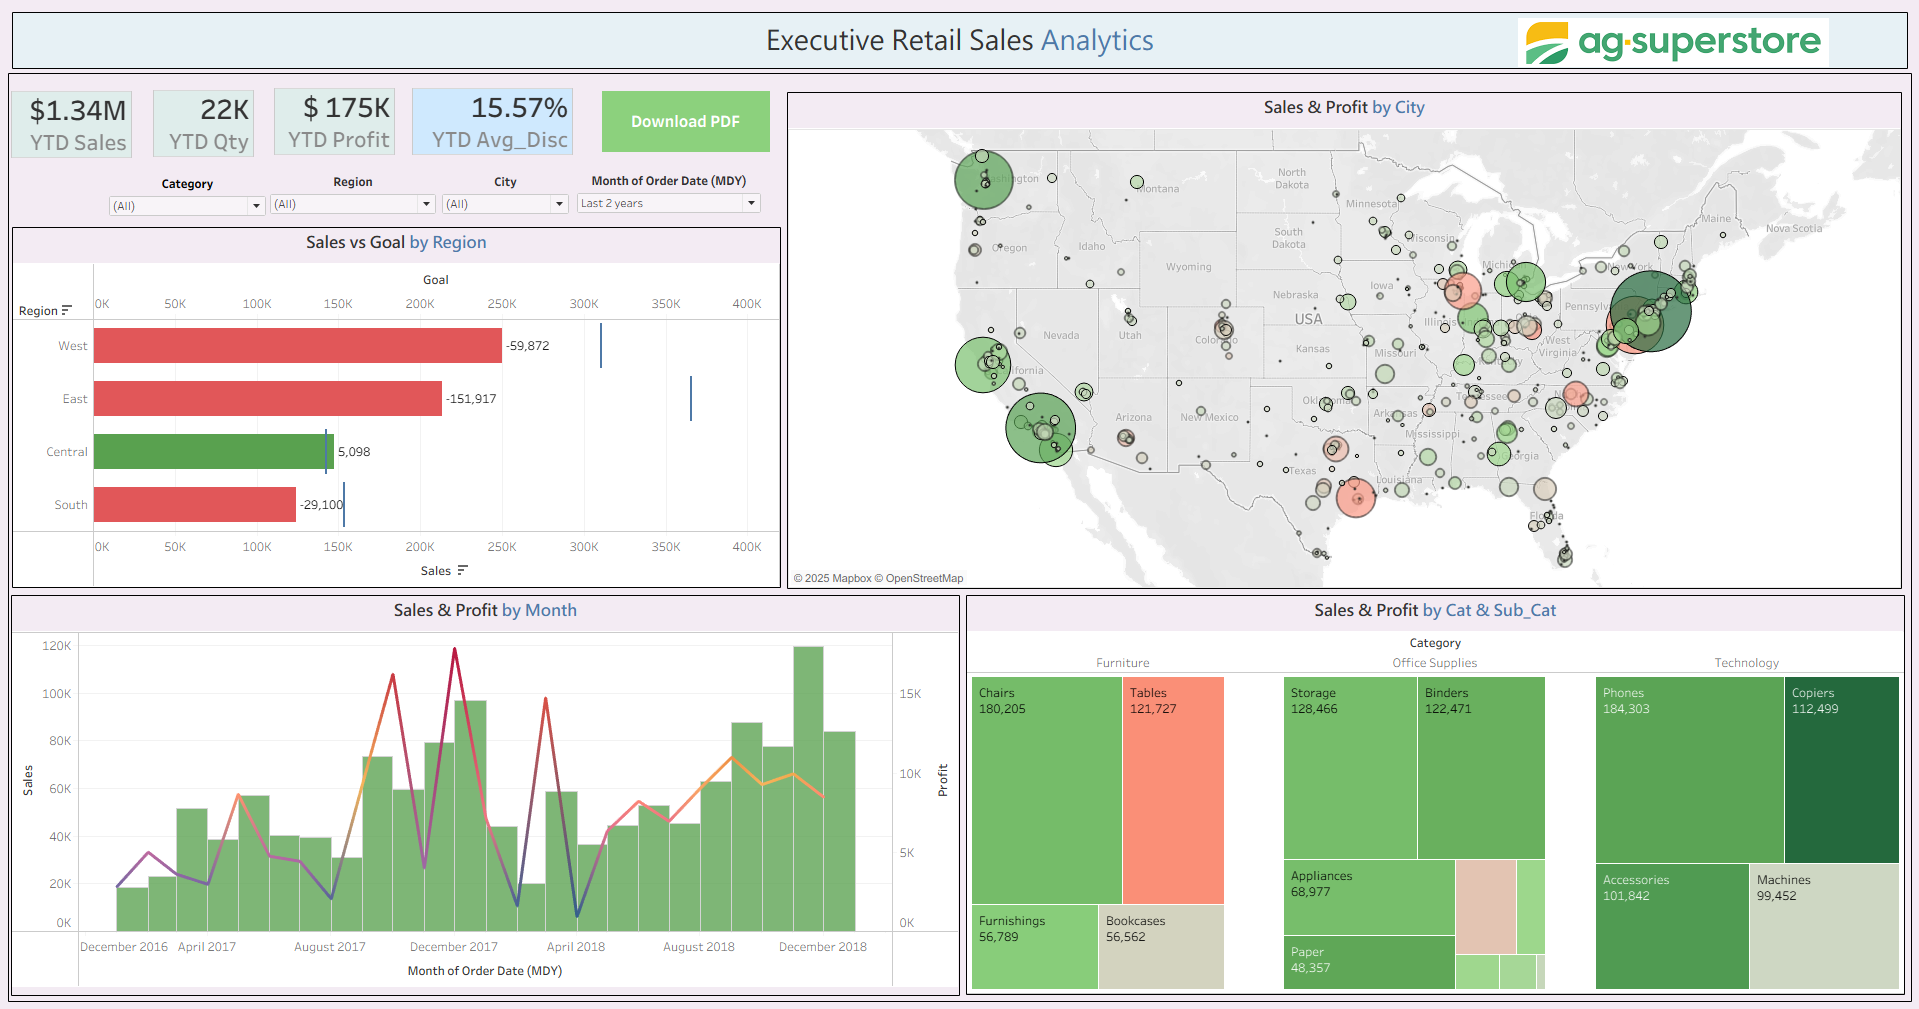

This screenshot's page, from the dashboard's own definition file:
{"tool":"tableau","page":{"name":"Dashboard 1","canvas":[1000,1000],"units":"permille","ordinal":0},"visuals":[{"type":"title","box":[4.7,9.3,990.6,75.9]},{"type":"image","param":"Image/download.png","box":[780.4,17.5,182.6,49.1]},{"type":"worksheet","title":"profit","mark":"Automatic","box":[141.6,70.1,92.5,112.2]},{"type":"worksheet","title":"disc","mark":"Automatic","box":[213.6,70.1,110.6,120.3]},{"type":"worksheet","title":"qty","mark":"Automatic","box":[78.4,72.4,77.8,118]},{"type":"worksheet","title":"sales","mark":"Automatic","box":[4.7,73.6,88.9,105.1]},{"type":"image","box":[5.3,86.5,989.4,903]},{"type":"dashboard-object","box":[313.6,90,87.5,60.8]},{"type":"worksheet","title":"City_wise","mark":"Automatic","box":[409.9,91.1,580.7,491.8]},{"type":"filter","title":"time_series","param":"[federated.1mje2vl1haba1o11l849009vdhme].[tmn:Order Date (MDY):qk]","box":[299,170.6,98.9,84.1]},{"type":"filter","title":"Target_vs_Achieved","param":"[federated.1mje2vl1haba1o11l849009vdhme].[none:Region:nk]","box":[139.3,171.7,89.5,66.6]},{"type":"filter","title":"City_wise","param":"[federated.1mje2vl1haba1o11l849009vdhme].[none:City:nk]","box":[228.8,171.7,69,79.4]},{"type":"filter","title":"tree_map","param":"[federated.1mje2vl1haba1o11l849009vdhme].[none:Category:nk]","box":[55,172.9,84.8,61.9]},{"type":"worksheet","title":"Target_vs_Achieved","mark":"Automatic","rows":["Region"],"cols":["Sales","Goal"],"box":[6.5,224.3,400.5,357.5]},{"type":"worksheet","title":"time_series","mark":"Automatic","rows":["Sales","Profit"],"cols":["Order Date (MDY)"],"box":[5.9,588.8,494.4,397.2]},{"type":"worksheet","title":"tree_map","mark":"Automatic","cols":["Category"],"box":[503.2,588.8,489.1,396]}]}

Visuals, with their boxes on the dashboard's canvas, which has no fixed pixel size, in thousandths of its width and height (x1, y1, x2, y2). These are canvas units, not pixel positions in the 1919x1009 screenshot, which may show the page scaled, cropped or inside an application window:
title: select_region(5, 9, 995, 85)
image: select_region(780, 18, 963, 67)
"profit" worksheet: select_region(142, 70, 234, 182)
"disc" worksheet: select_region(214, 70, 324, 190)
"qty" worksheet: select_region(78, 72, 156, 190)
"sales" worksheet: select_region(5, 74, 94, 179)
image: select_region(5, 86, 995, 990)
dashboard-object: select_region(314, 90, 401, 151)
"City_wise" worksheet: select_region(410, 91, 991, 583)
"time_series" filter: select_region(299, 171, 398, 255)
"Target_vs_Achieved" filter: select_region(139, 172, 229, 238)
"City_wise" filter: select_region(229, 172, 298, 251)
"tree_map" filter: select_region(55, 173, 140, 235)
"Target_vs_Achieved" worksheet: select_region(6, 224, 407, 582)
"time_series" worksheet: select_region(6, 589, 500, 986)
"tree_map" worksheet: select_region(503, 589, 992, 985)
